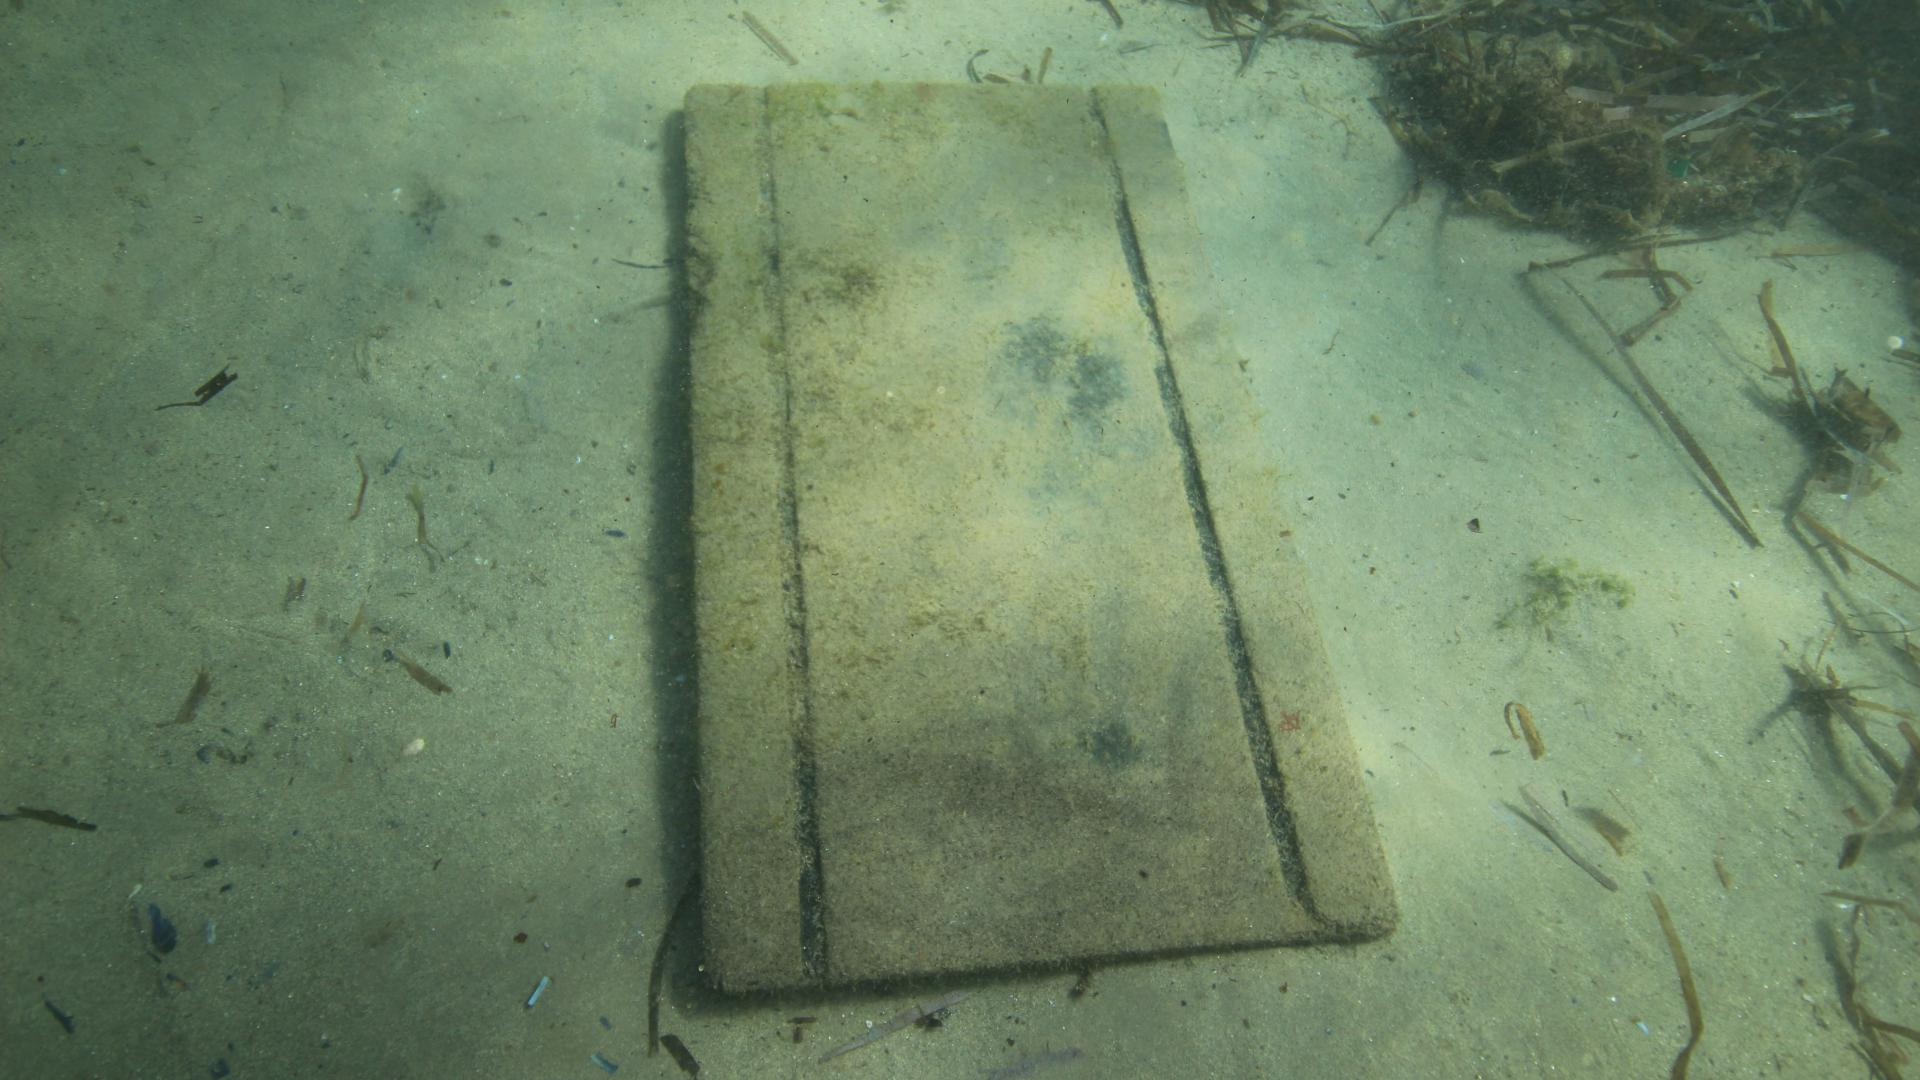wood: (680, 82, 1402, 994)
